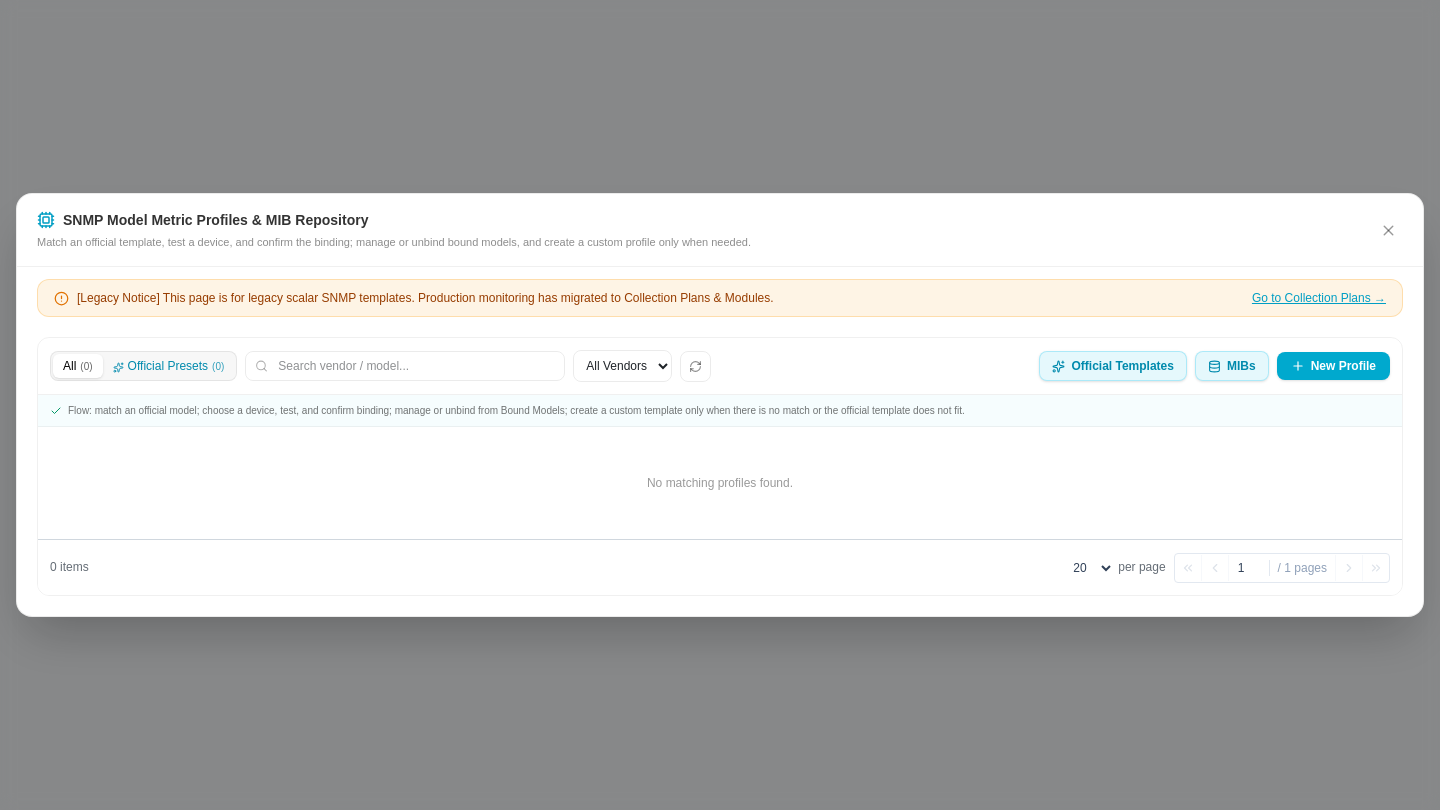
it: MetricOidProfilesModal editor › hides optional row and calculation fields until Advanced settings is opened
Step 1. Click the button "New Profile" → x=1333, y=366, box [1277, 352, 1390, 380]
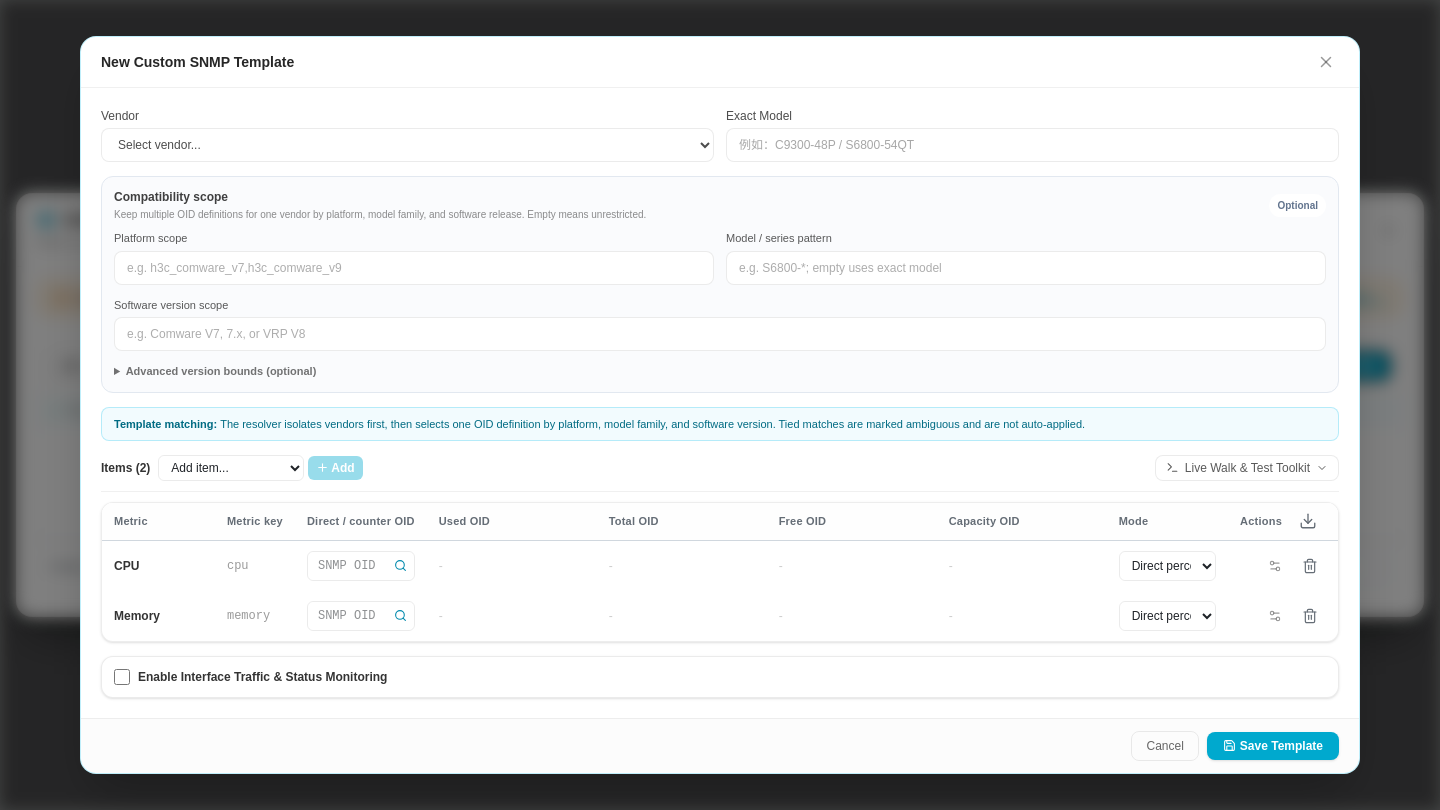
Expected: the number of buttons named "Advanced calculation" is 2
Step 2. Click the 1st button named "Advanced calculation" → x=1275, y=566, box [1262, 553, 1288, 579]
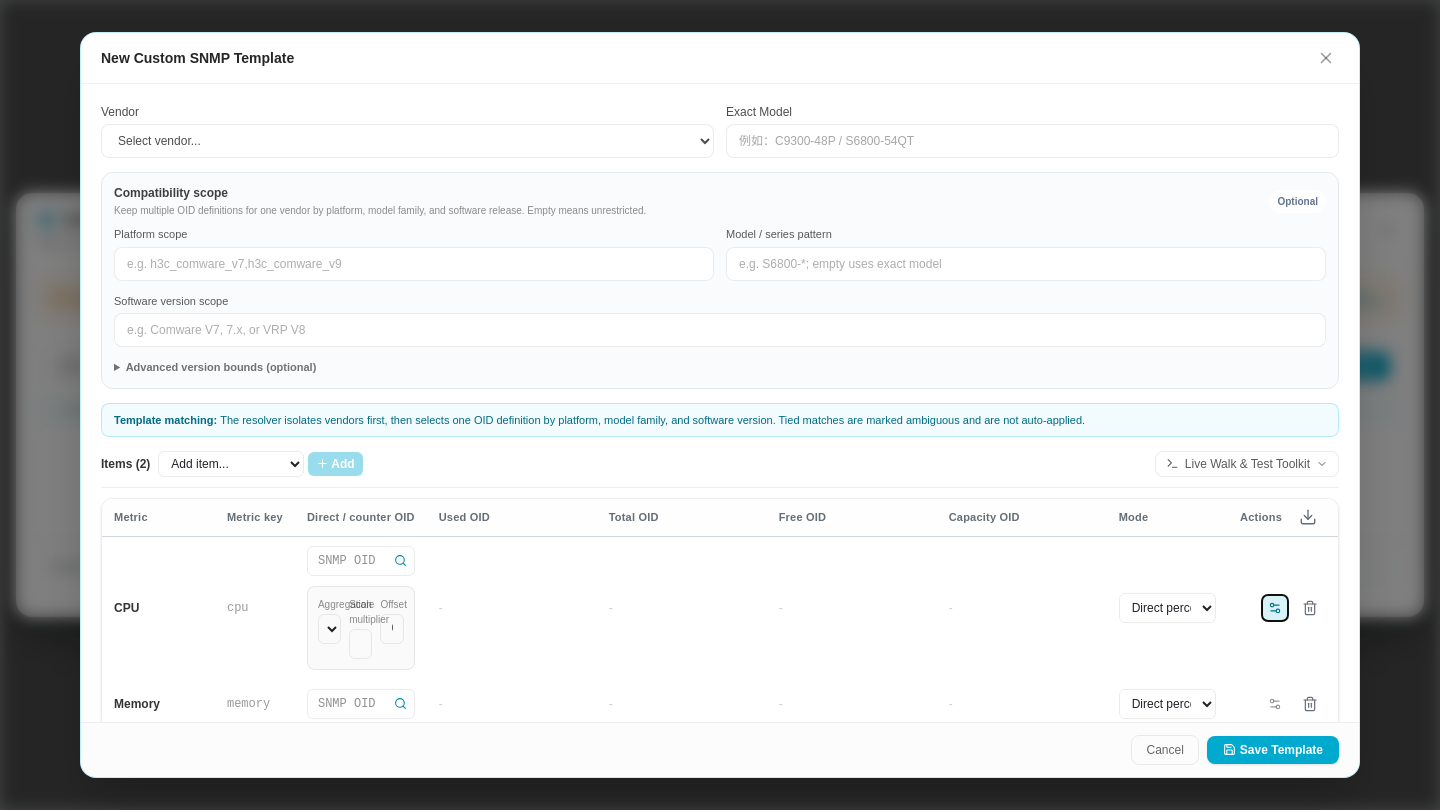
Expected: the text "Aggregation" is shown once, [318, 597, 341, 612]
Expected: the text "Scale multiplier" is shown, [349, 597, 372, 627]
Expected: the text "Offset" is shown, [380, 597, 404, 612]
